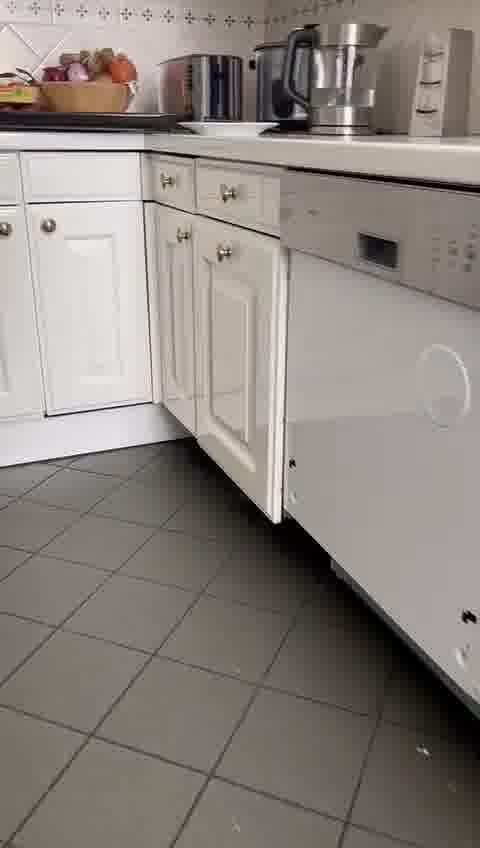cabinet_door: (280, 197, 477, 551), (42, 206, 150, 417), (194, 224, 275, 483), (0, 202, 43, 423), (150, 211, 193, 401), (22, 152, 141, 201), (199, 168, 272, 220), (141, 157, 194, 205)
handle: (218, 182, 244, 209), (215, 239, 237, 269), (39, 214, 59, 243), (0, 214, 14, 248), (176, 225, 193, 249), (158, 171, 176, 193)
